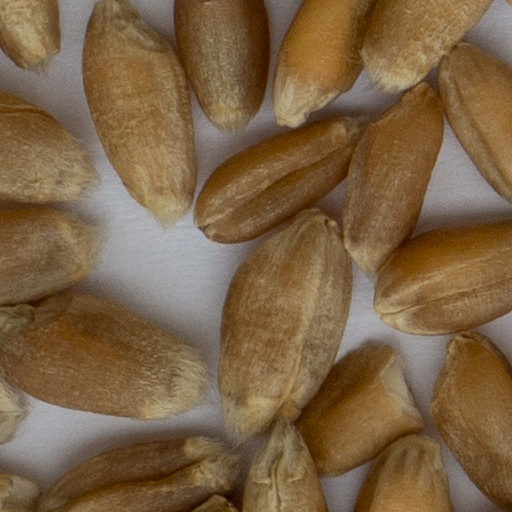Peel-poly: (0, 474, 36, 511)
Wheat-grain-damaged-poly: (297, 340, 424, 479)
